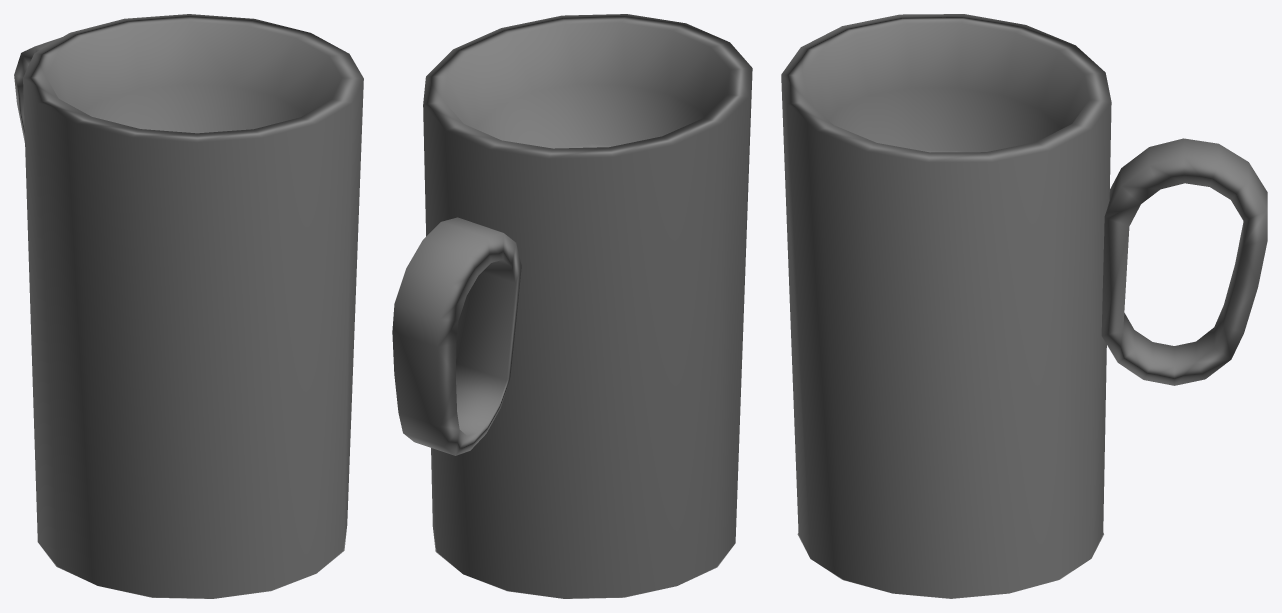
File: Taza14.fbx
3 views of the same model, side by side, from view 1: azimuth 30°, elevation 25°; view 2: azimuth 150°, elevation 25°; view 3: azimuth 270°, elevation 25° (orthographic). The views are drawn at different scales.
Visible parts, largest first — view 1: Taza14; view 2: Taza14; view 3: Taza14.
Part boxes in pixels (x1,y1,x2,y2): Taza14: (14, 14, 363, 598); Taza14: (392, 14, 752, 598); Taza14: (781, 14, 1267, 598).
Size of the model in its own units: 13.33 by 20.16 by 19.64.
